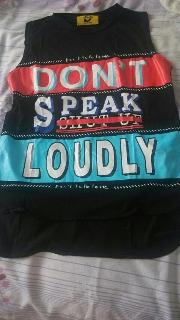vest dress: (0, 3, 180, 258)
